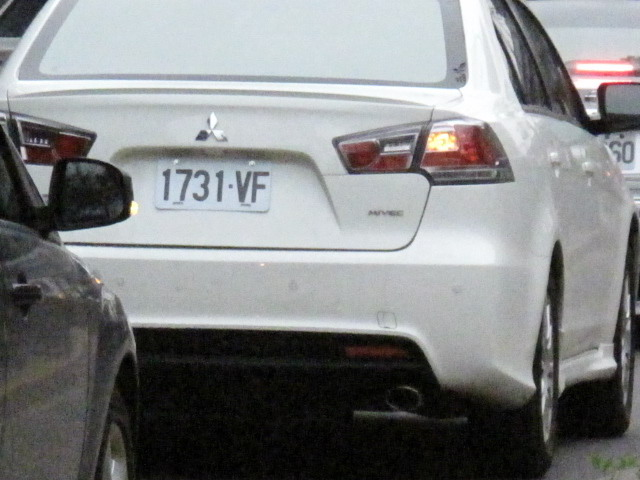plate: (154, 151, 276, 213)
